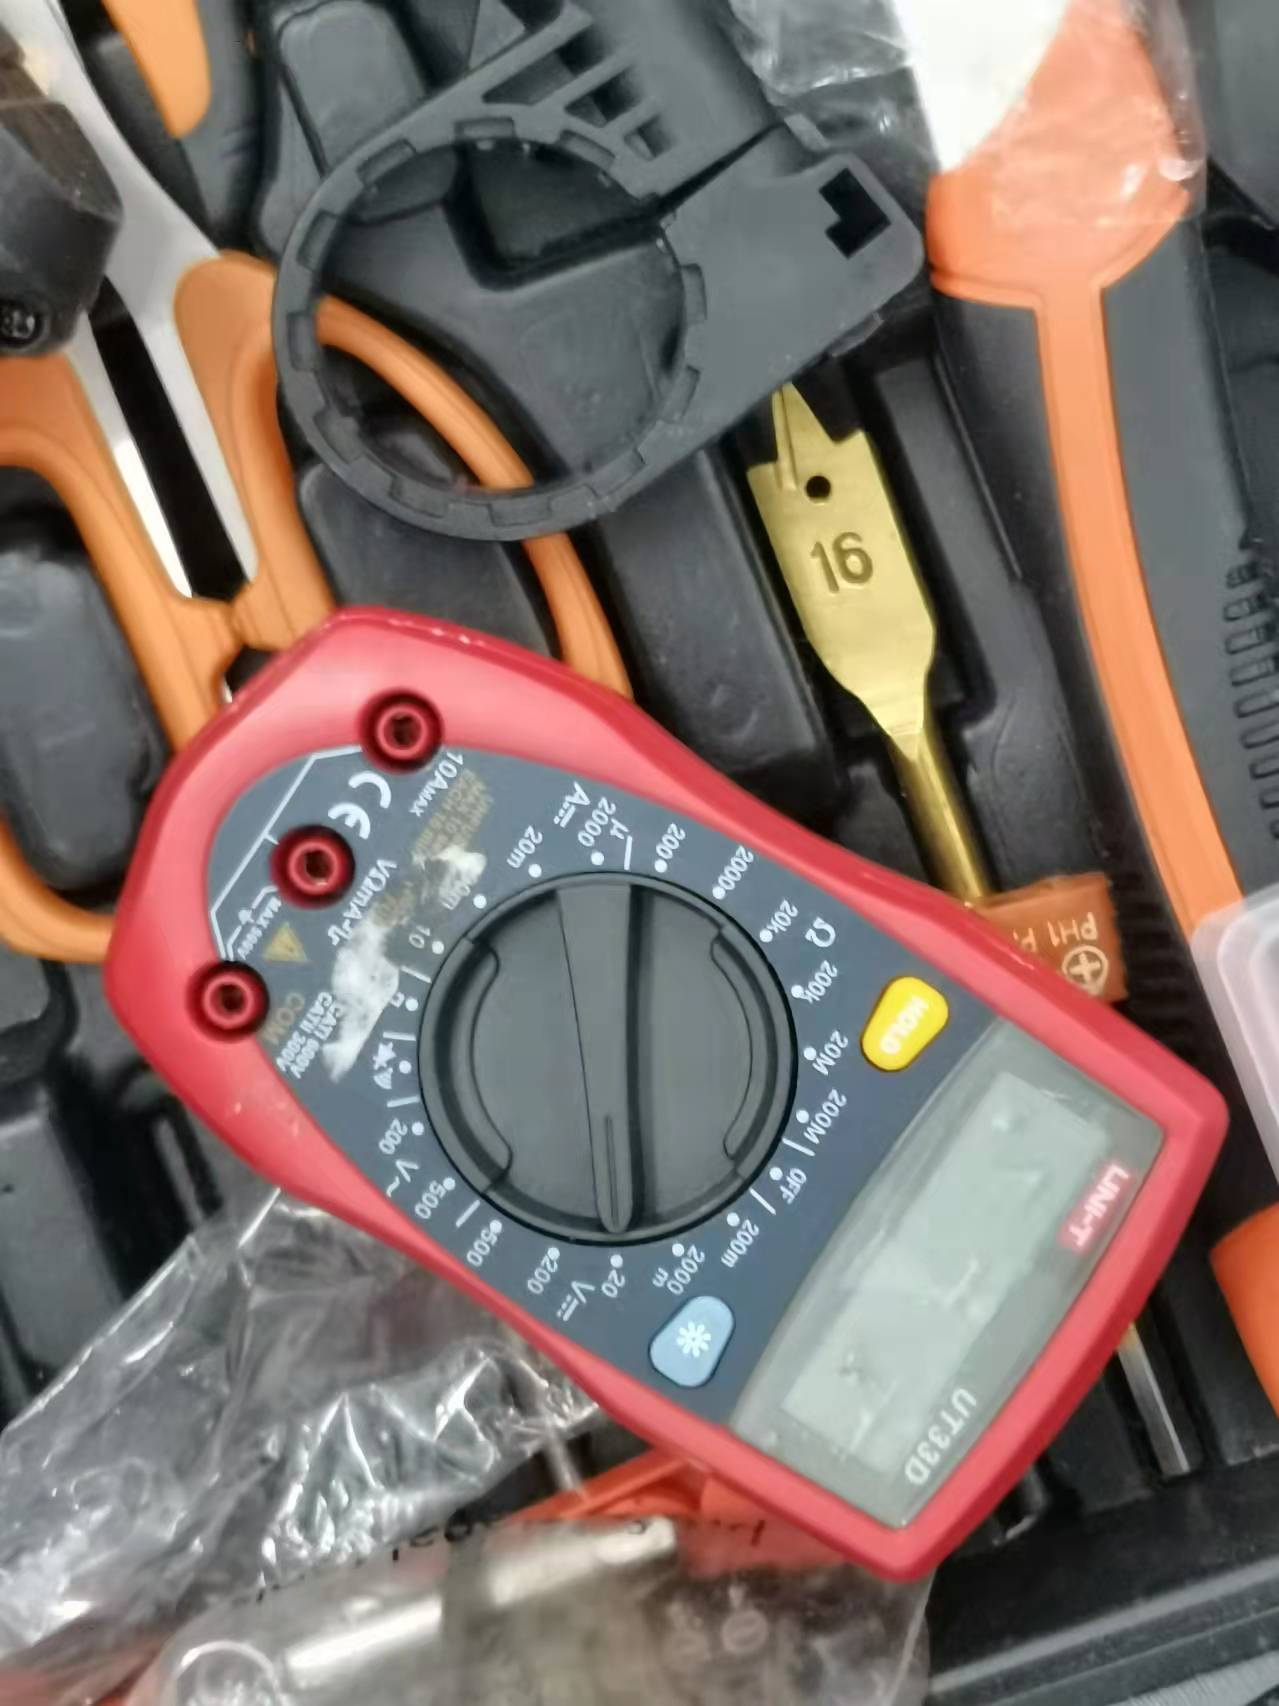Multimeter: (98, 592, 1223, 1580)
